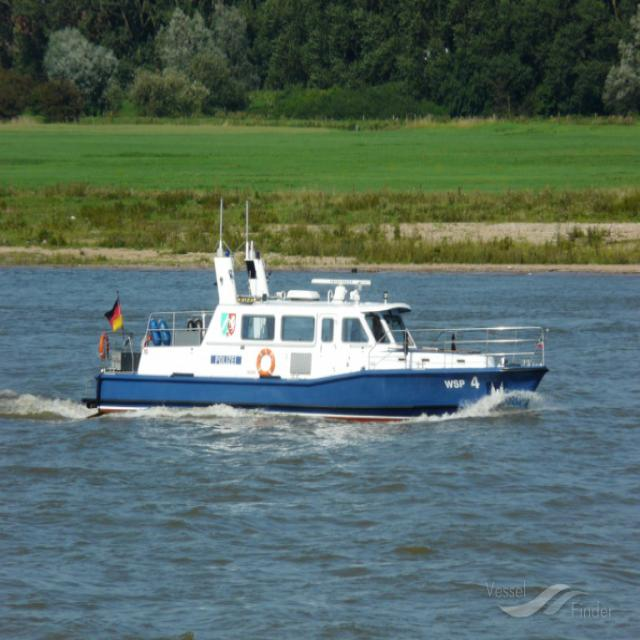OCR: (436, 373, 481, 396)
